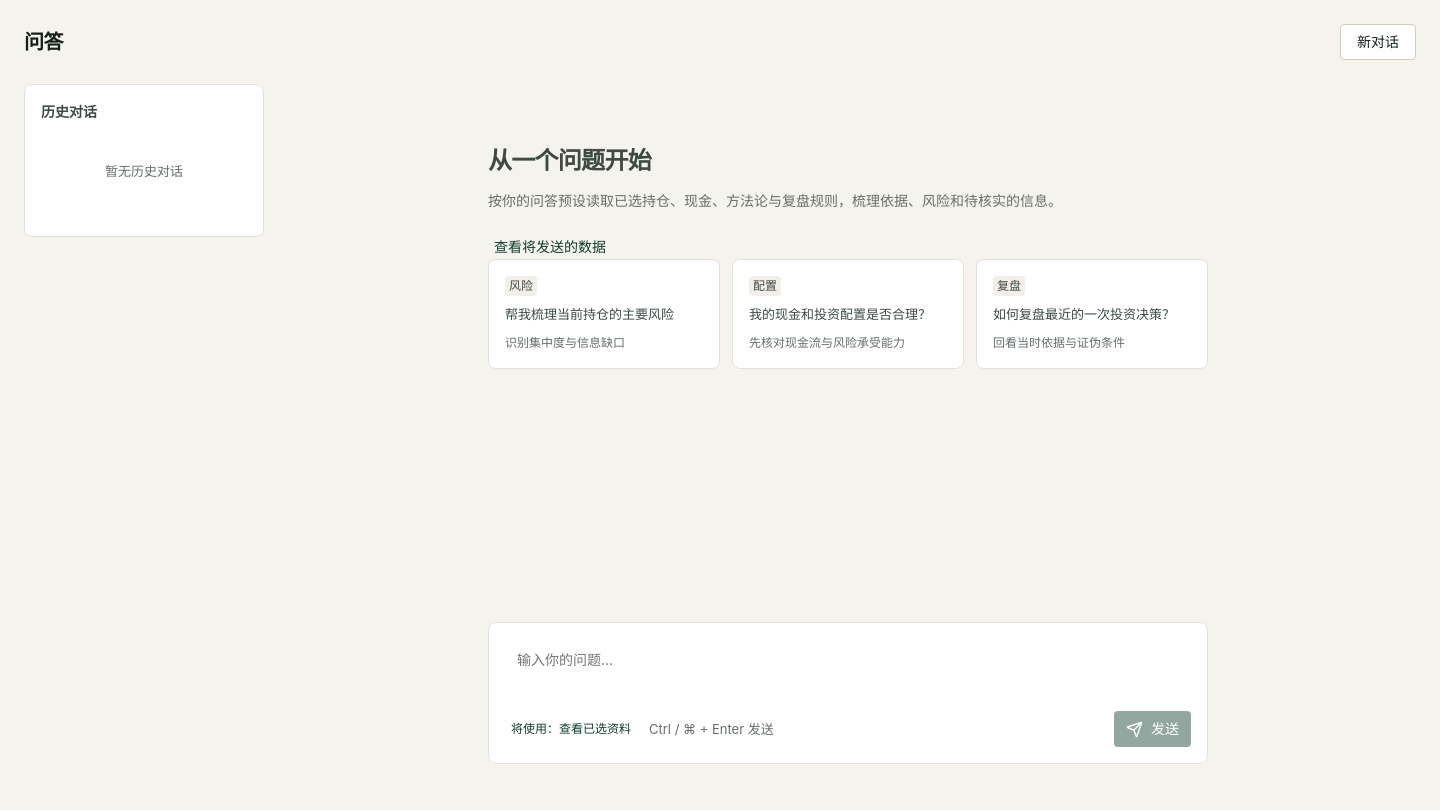
it: preserves an interrupted draft and original question for retry
The width and height of the screenshot is (1440, 810).
Step 1. Type "保留问题" into the text box named "输入问题" → (848, 675), box [505,639,1191,711]
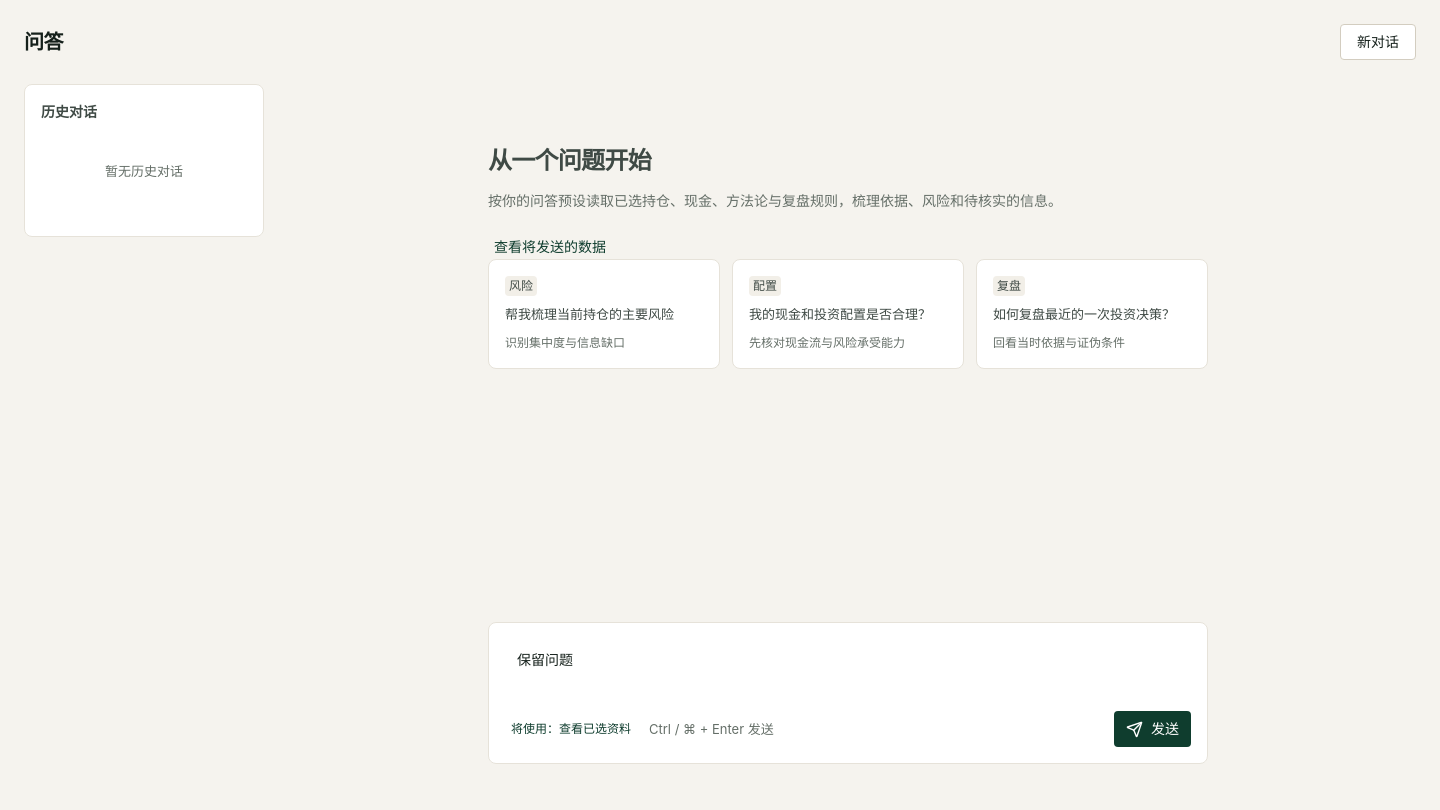
Step 2. Click the button "发送" → (1152, 729), box [1114,711,1191,747]
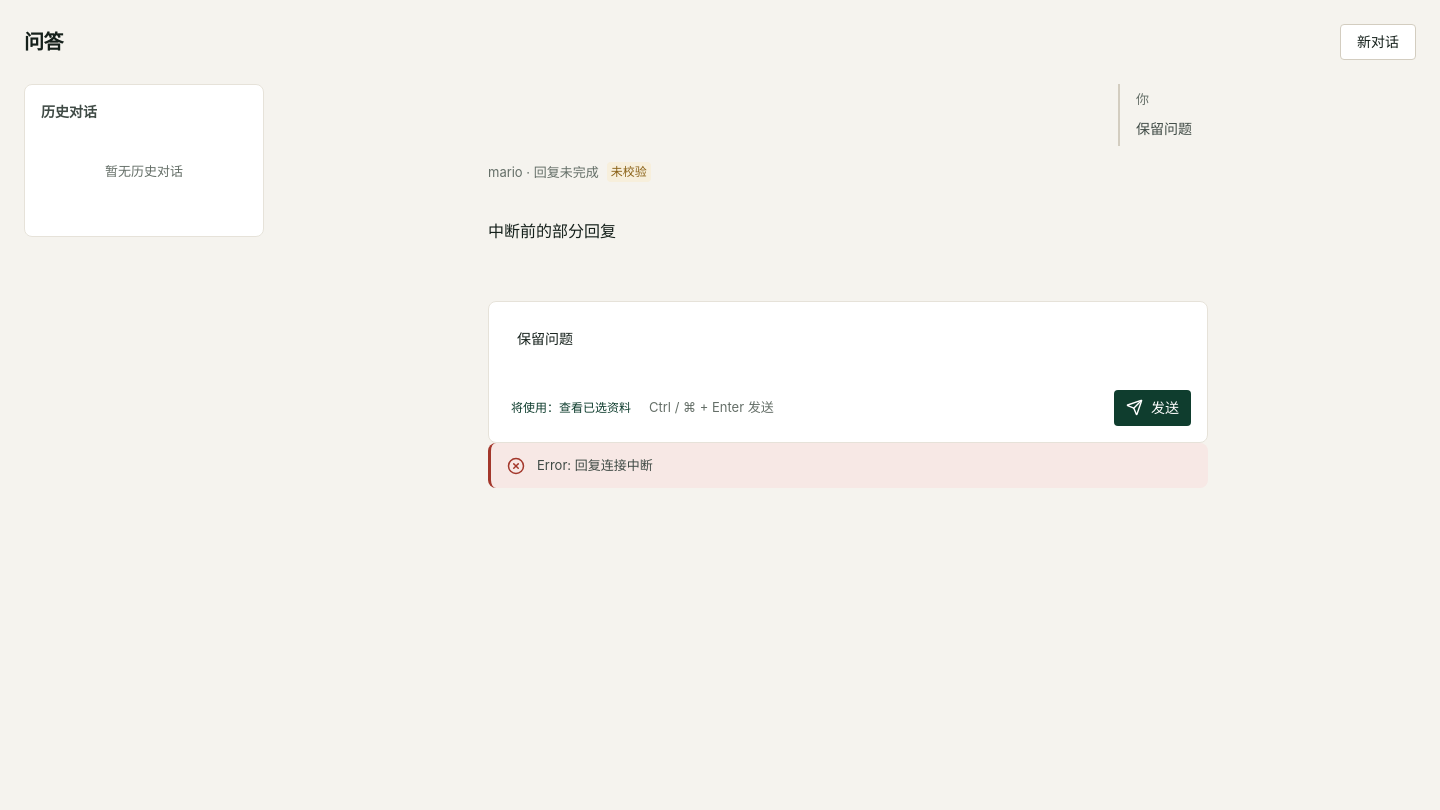
Expected: the message "Error: 回复连接中断" is shown, [488,443,1208,488]
Expected: the text "中断前的部分回复" is shown, [488,221,616,241]
Expected: the text "mario · 回复未完成" is shown, [488,162,651,182]
